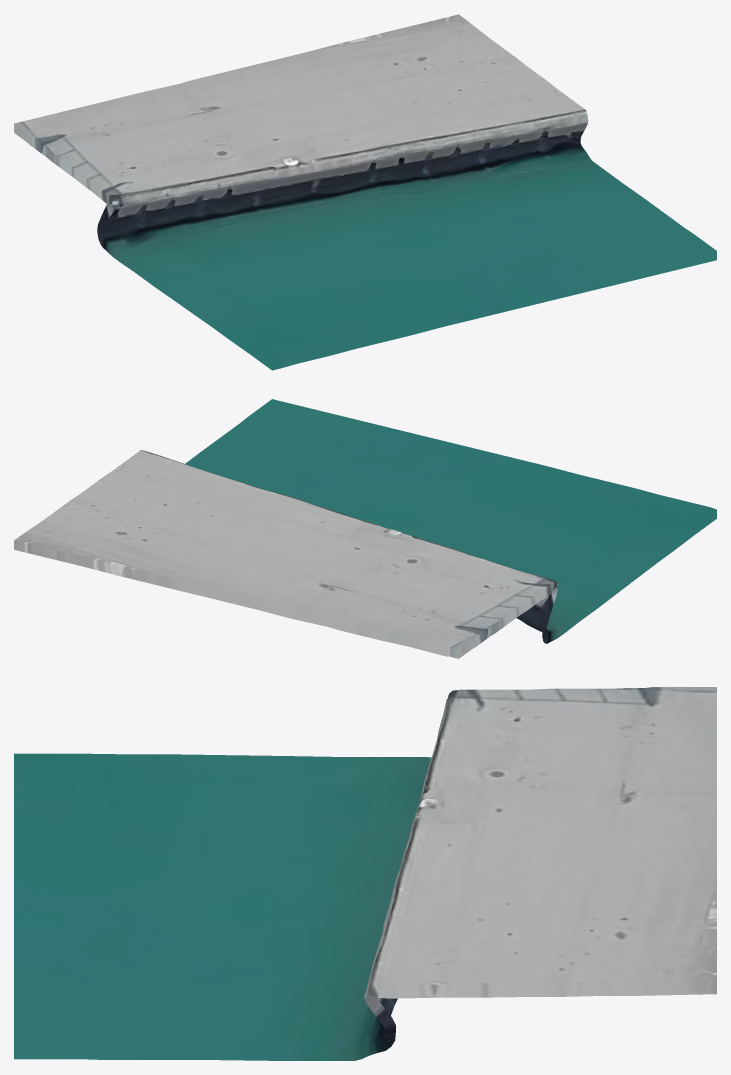
The model's file is z20-167769-405189-h0-yup-uvflip-v3-world.glb.
3 renders of one model, top to bottom at view 1: azimuth 30°, elevation 25°; view 2: azimuth 150°, elevation 25°; view 3: azimuth 270°, elevation 25°, orthographic. The views are drawn at different scales.
Size of the model in its own units: 30.16 by 4 by 30.32.
Materials: 1 (1 with a texture image).
